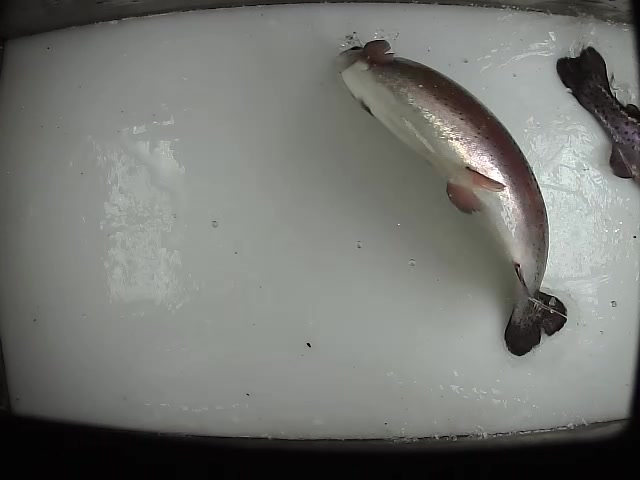fish: (328, 37, 570, 357), (556, 47, 640, 190)
